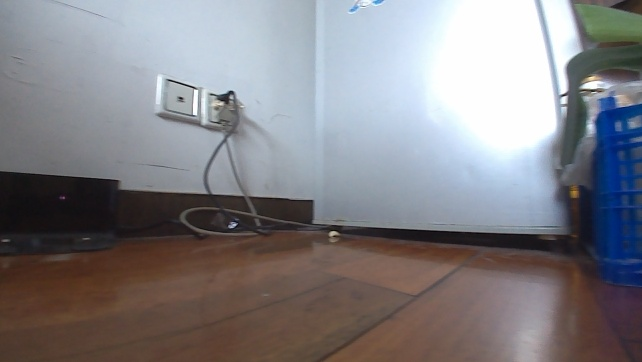charger: (0, 169, 121, 259)
wire: (122, 88, 327, 240)
